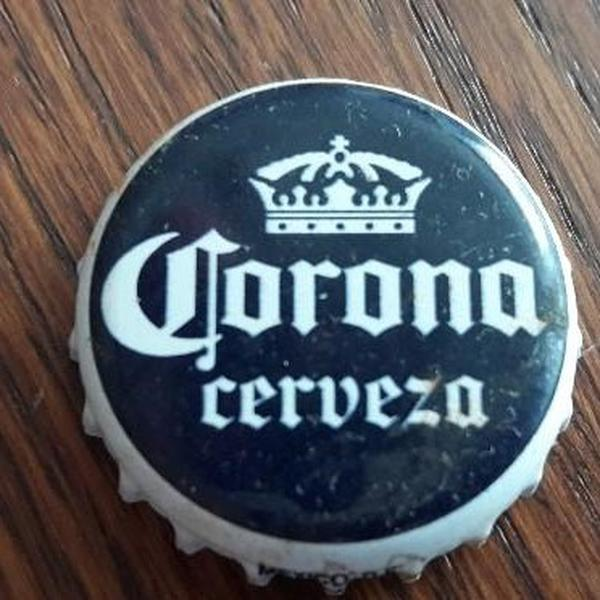corona: (65, 74, 588, 591)
